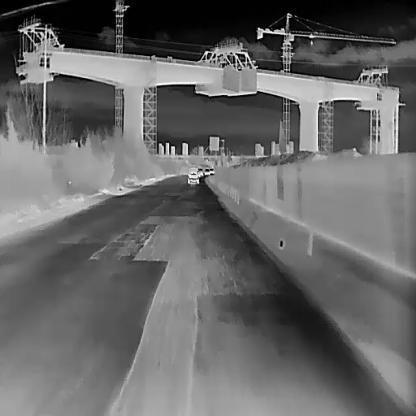car: (188, 167, 198, 184), (198, 168, 203, 176), (205, 168, 209, 174), (209, 168, 213, 173)
